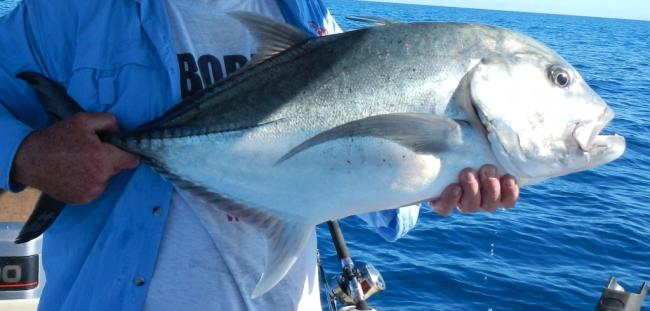fish: (15, 11, 625, 245)
